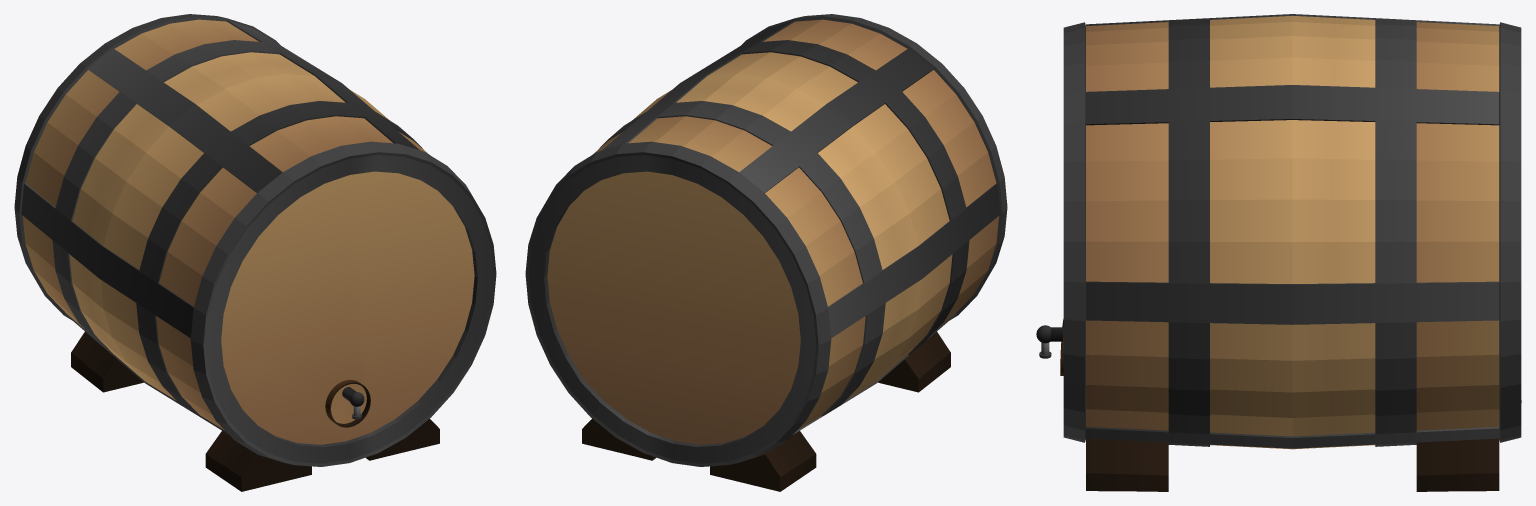
Rendered from Large Light Wooden Cask.fbx.
The picture shows the model from 3 angles, left to right: view 1: azimuth 30°, elevation 25°; view 2: azimuth 150°, elevation 25°; view 3: azimuth 270°, elevation 25°; orthographic projection. The views are drawn at different scales.
Visible parts, largest first — view 1: Large Light Wooden Cask; view 2: Large Light Wooden Cask; view 3: Large Light Wooden Cask.
Boxes of the visible parts, left/top/right/bottom form: Large Light Wooden Cask: left=14, top=14, right=496, bottom=491; Large Light Wooden Cask: left=525, top=14, right=1007, bottom=491; Large Light Wooden Cask: left=1036, top=14, right=1521, bottom=491.
Size of the model in its own units: 823 by 913 by 823.
Materials: 1 (1 with a texture image).
